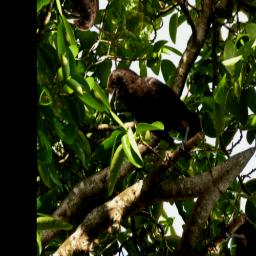Crow: (96, 31, 209, 187)
